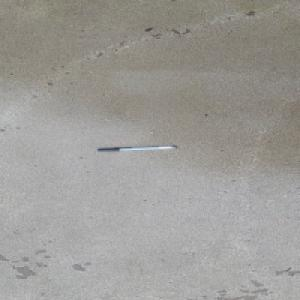Pen: (96, 145, 178, 152)
